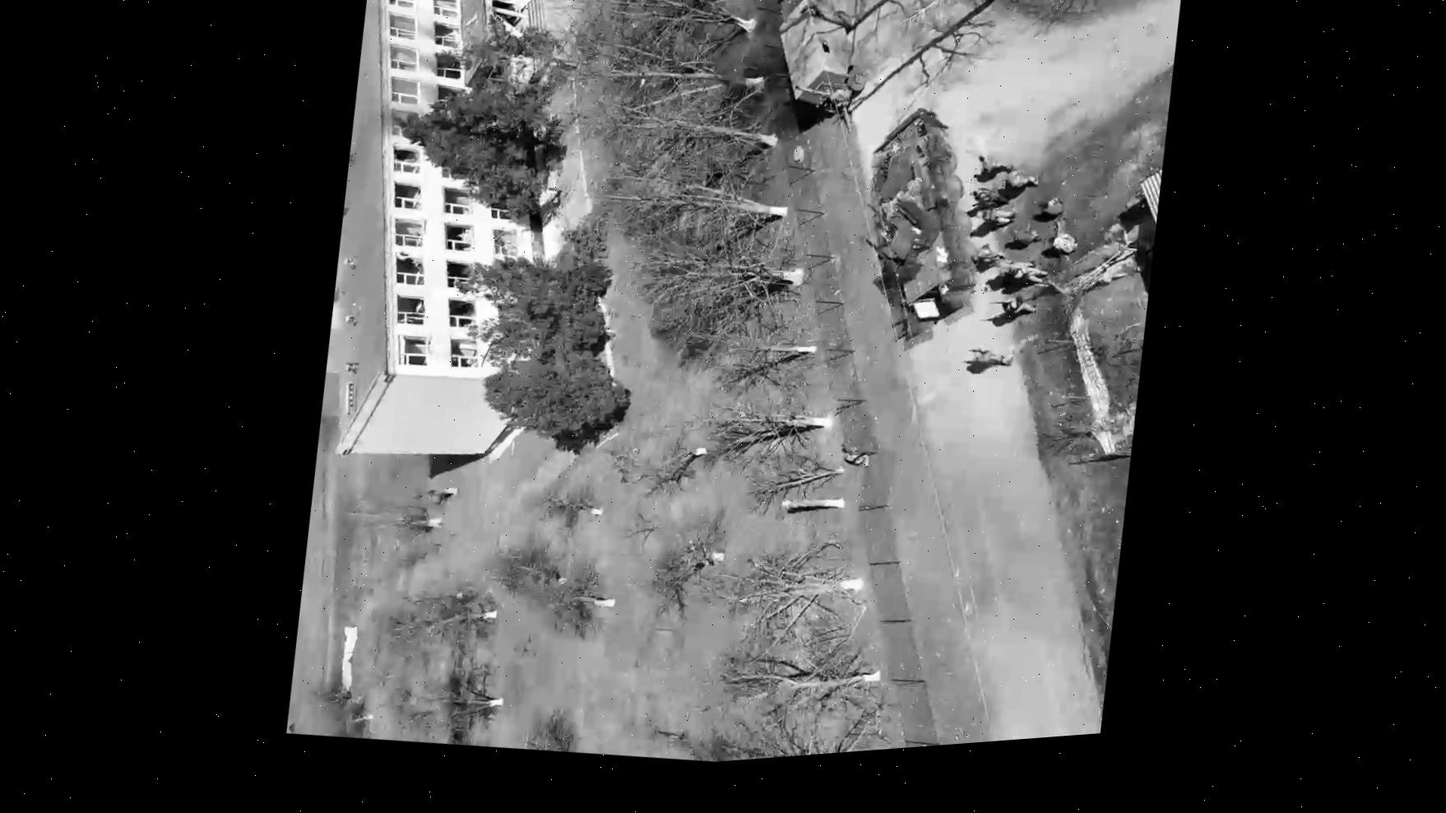person: (968, 242, 1012, 279), (966, 340, 1017, 370), (1005, 258, 1052, 288), (988, 290, 1038, 318), (1002, 162, 1042, 192), (969, 183, 1013, 210), (974, 202, 1018, 227), (840, 445, 877, 472), (1048, 225, 1082, 253), (976, 149, 1013, 174), (1010, 223, 1042, 245), (1036, 192, 1066, 215)
tank: (846, 93, 1003, 336)
